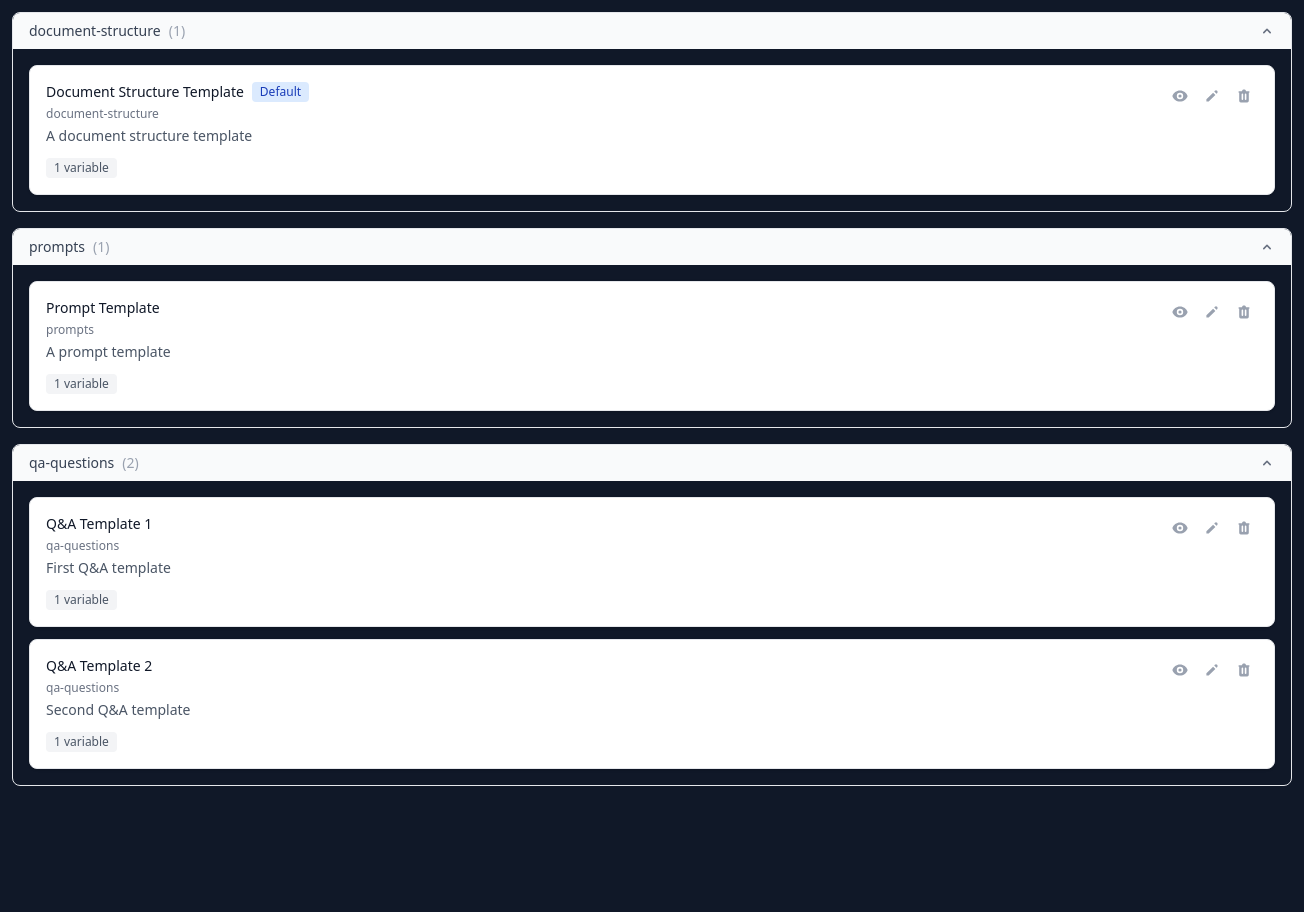
Scenario: TemplateList › collapse/expand › should expand collapsed category when clicked again
Click the button "qa-questions(2)": (72, 462) [13, 445, 1291, 481]
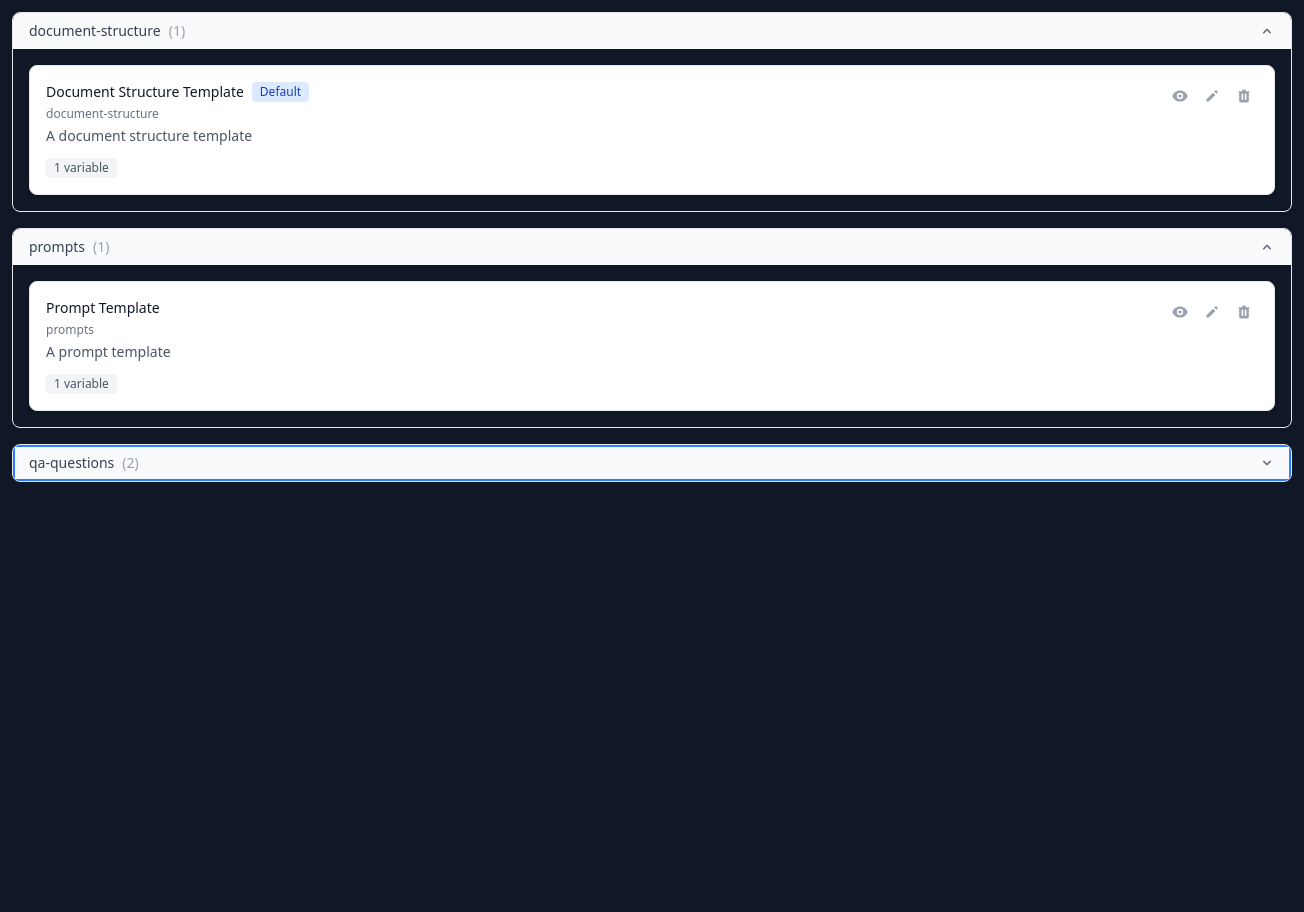
Expected: the heading "Q&A Template 1" is gone
Click the button "qa-questions(2)": (72, 462) [13, 445, 1291, 481]
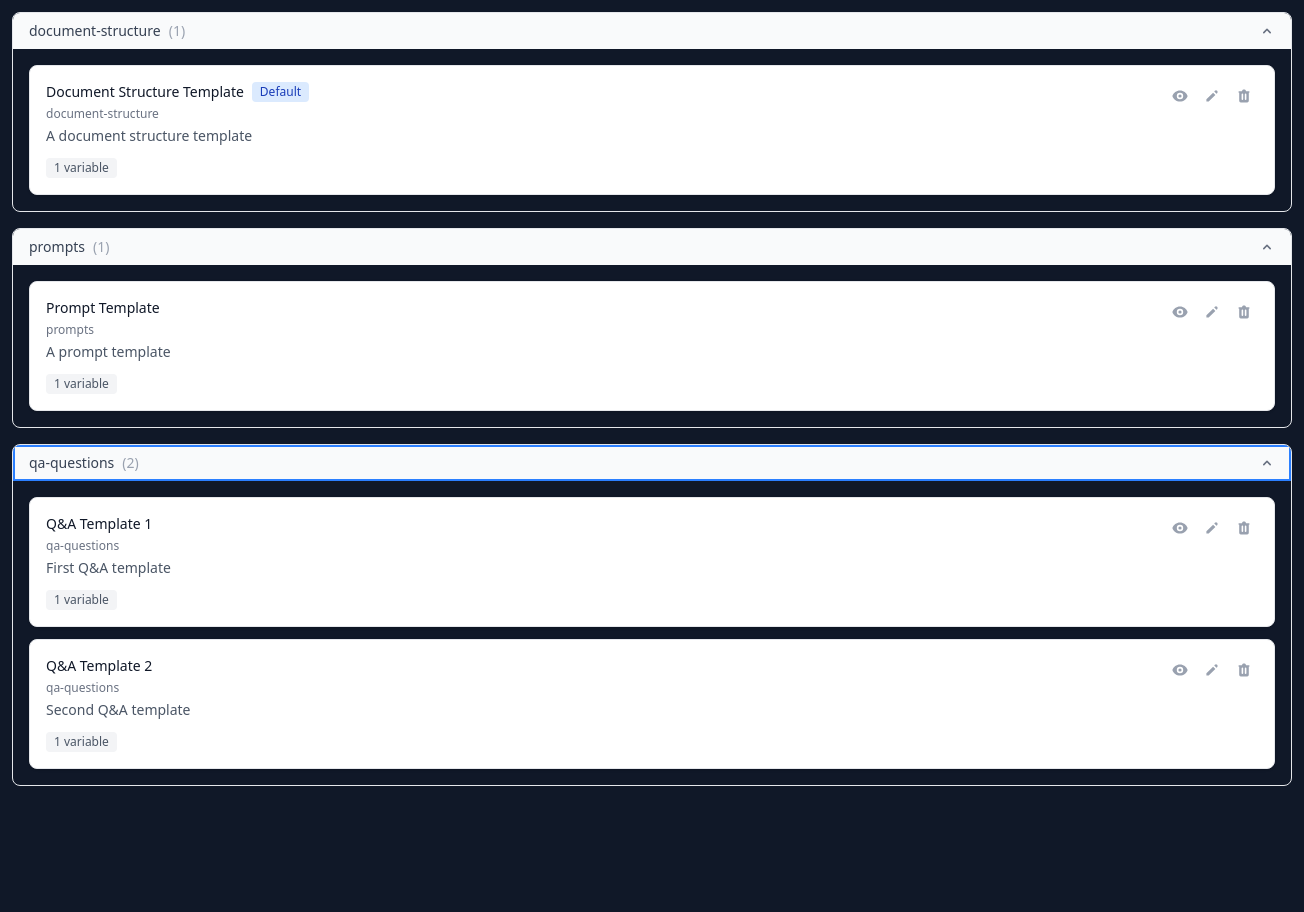
Expected: the heading "Q&A Template 1" is shown, [46, 514, 152, 534]
